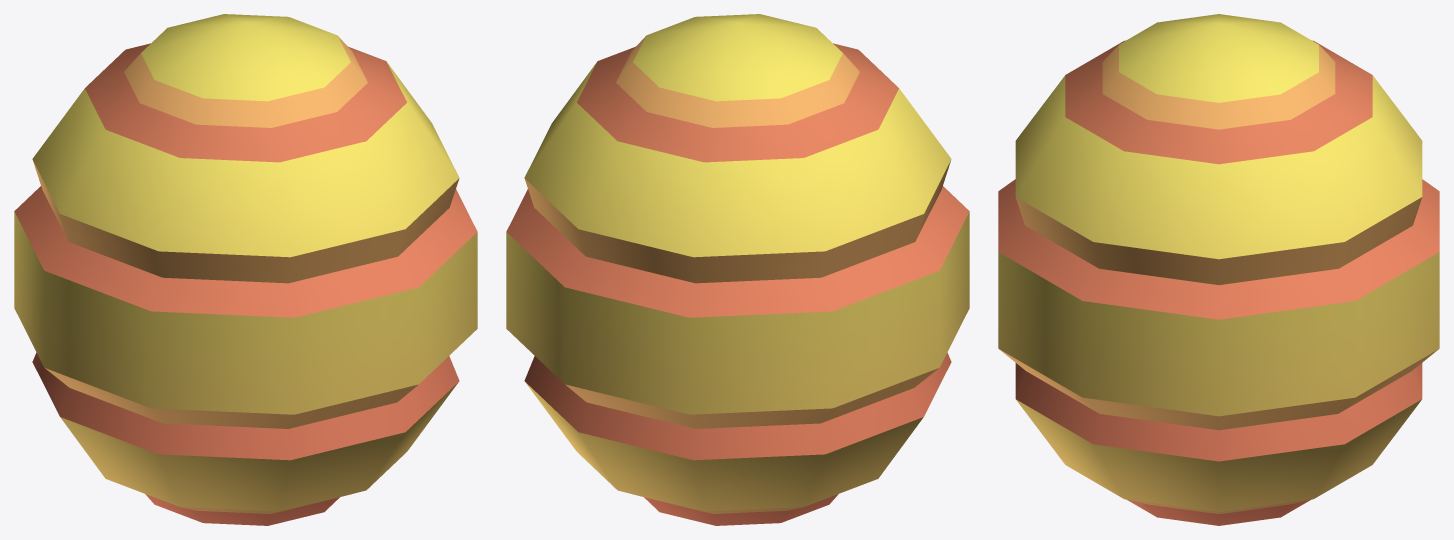
3 views of the same model, side by side, from view 1: azimuth 30°, elevation 25°; view 2: azimuth 150°, elevation 25°; view 3: azimuth 270°, elevation 25° (orthographic).
Parts seen in each view (by area): view 1: Sphere; view 2: Sphere; view 3: Sphere.
Boxes of the visible parts, x1=… form: Sphere: x1=14, y1=14, x2=477, y2=525; Sphere: x1=506, y1=14, x2=969, y2=525; Sphere: x1=998, y1=14, x2=1439, y2=525.
Bounding box in the file's own units: 11.46 × 13.4 × 10.89.
